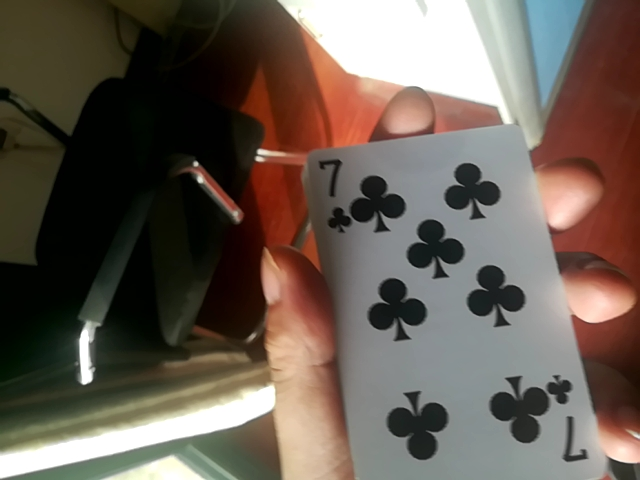mh 7: (337, 114, 614, 480)
